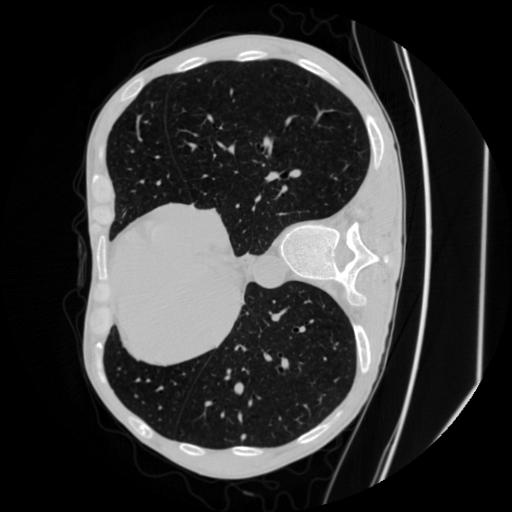nodule: (238, 430, 249, 441)
